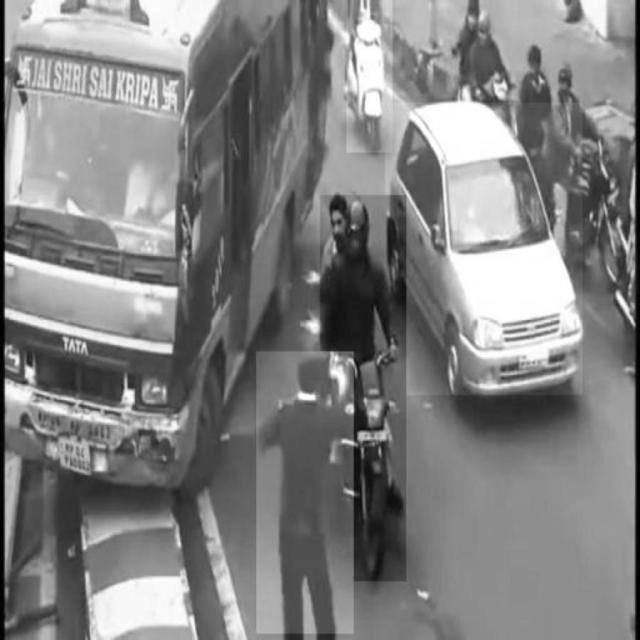person: (256, 352, 354, 634)
vehicle: (7, 2, 327, 490), (385, 103, 582, 395), (321, 196, 407, 582), (346, 0, 392, 152)
